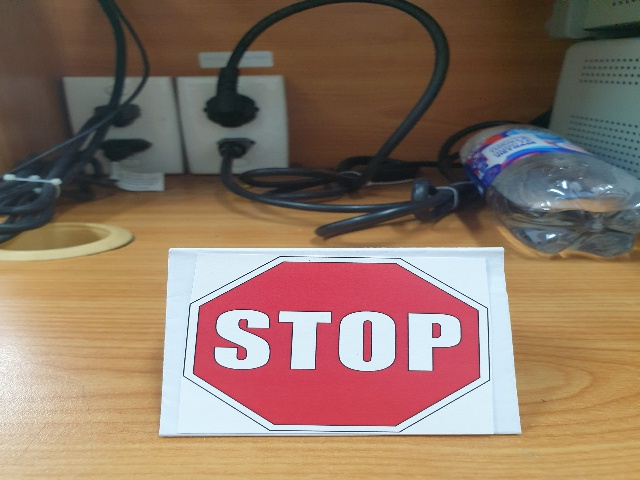Stop: (179, 256, 496, 429)
